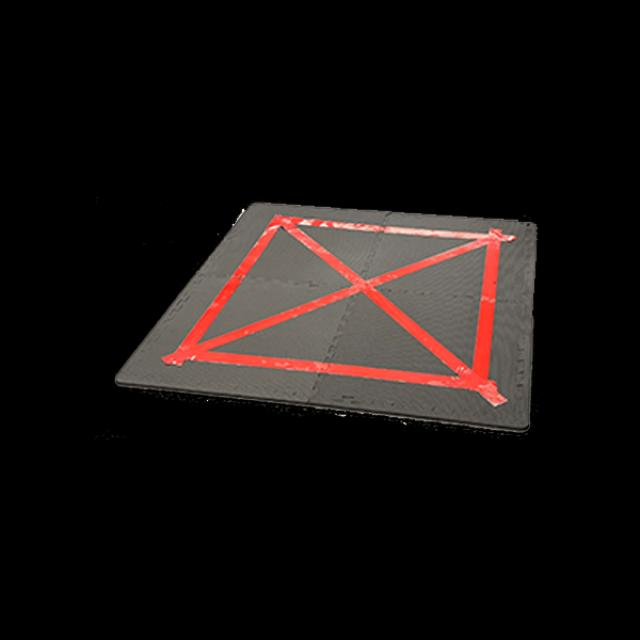landingPads: (113, 201, 541, 433)
